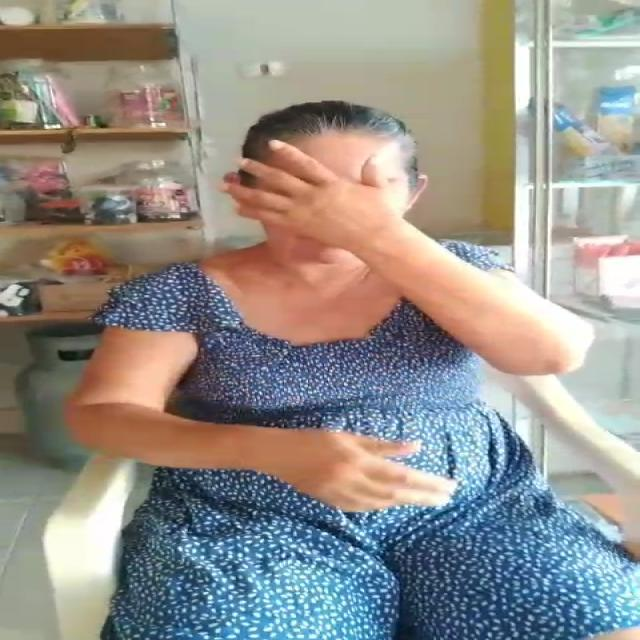7_mano_rostro: (251, 155, 401, 286)
